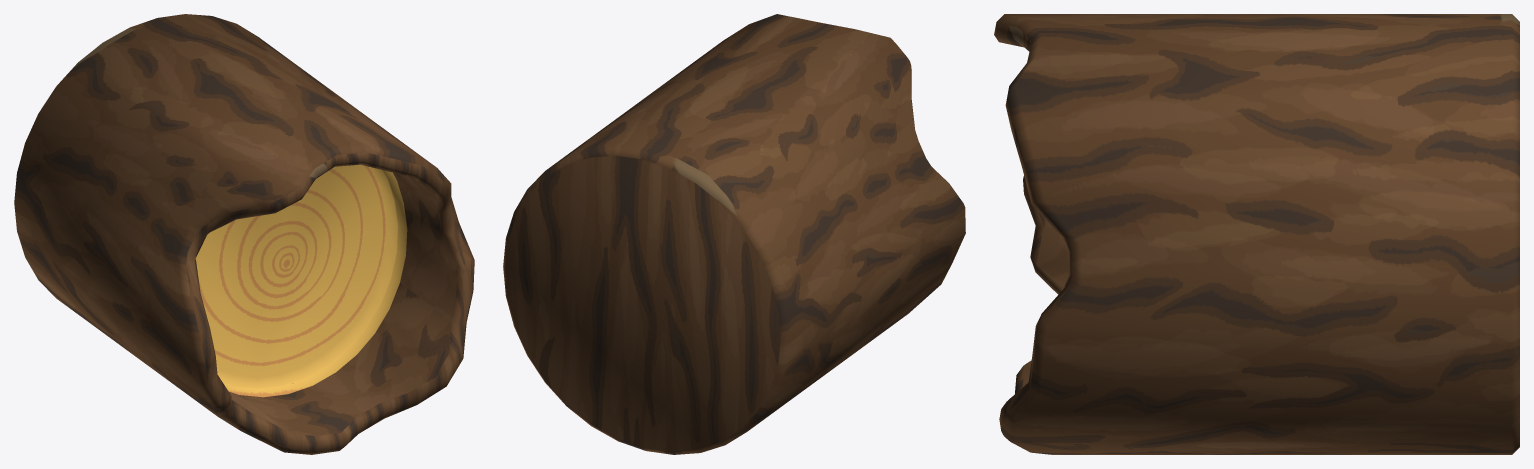
File: WoodLog.fbx
3 renders of one model, left to right at view 1: azimuth 30°, elevation 25°; view 2: azimuth 150°, elevation 25°; view 3: azimuth 270°, elevation 25°, orthographic. The views are drawn at different scales.
Visible parts, largest first — view 1: TreeLog; view 2: TreeLog; view 3: TreeLog.
Boxes of the visible parts, <box> form: TreeLog: <box>14,14,474,454</box>; TreeLog: <box>503,14,965,454</box>; TreeLog: <box>994,14,1519,454</box>.
Bounding box in the file's own units: 200 × 200 × 238.
